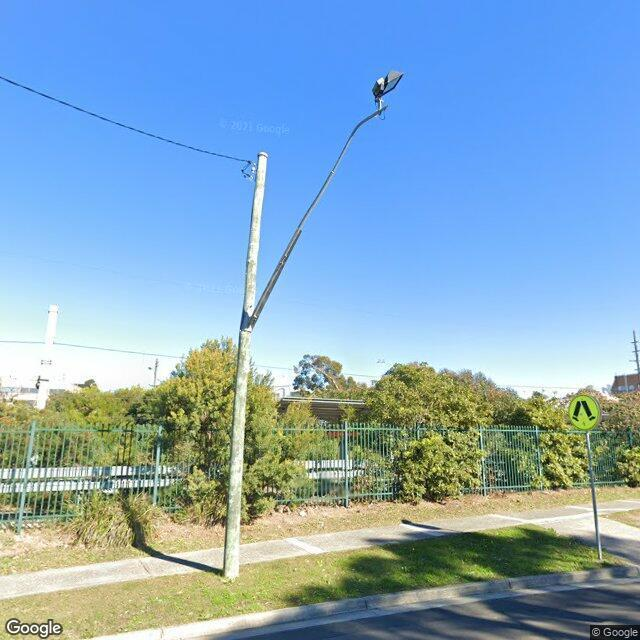streetlight: (250, 69, 404, 330)
timber-pole: (221, 152, 268, 580)
